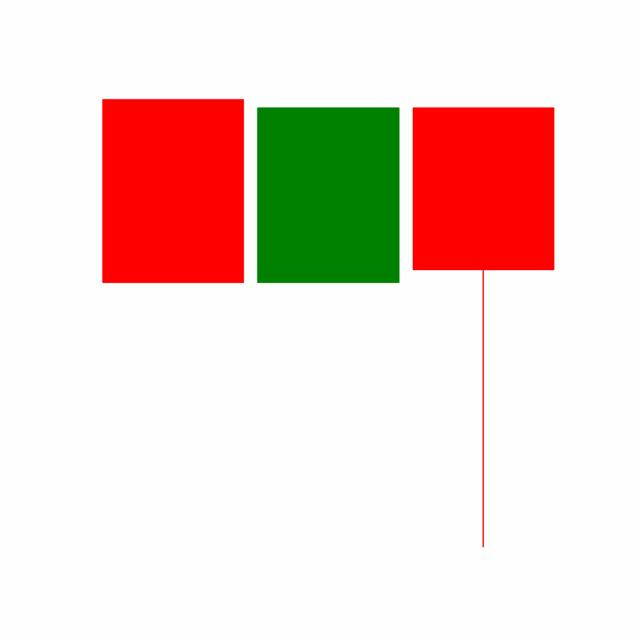Marubozu: (249, 105, 406, 284)
